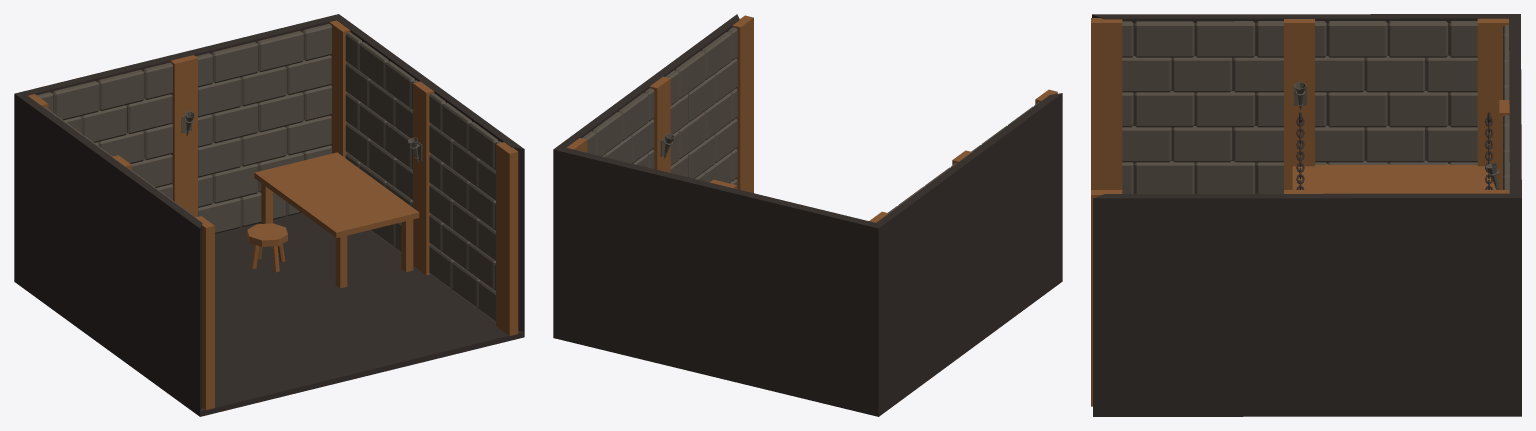
File: dilao.fbx
The picture shows the model from 3 angles, left to right: view 1: azimuth 30°, elevation 25°; view 2: azimuth 150°, elevation 25°; view 3: azimuth 270°, elevation 25°; orthographic projection. The views are drawn at different scales.
Visible parts, largest first — view 1: ban, qiang1, zhuzi1, pCube32, pCylinder2, pCube34, pCube33; view 2: ban, qiang1, zhuzi1; view 3: ban, qiang1, zhuzi1, pCube30.
Part boxes in pixels (<box>): ban: <box>14,14,524,416</box>; qiang1: <box>37,24,501,321</box>; zhuzi1: <box>28,20,518,409</box>; pCube32: <box>254,152,419,237</box>; pCylinder2: <box>247,223,287,246</box>; pCube34: <box>401,219,413,272</box>; pCube33: <box>335,235,347,288</box>; ban: <box>553,14,1062,416</box>; qiang1: <box>580,27,1039,213</box>; zhuzi1: <box>566,15,1057,222</box>; ban: <box>1092,14,1521,416</box>; qiang1: <box>1122,21,1509,193</box>; zhuzi1: <box>1091,18,1509,406</box>; pCube30: <box>1292,164,1496,193</box>.
Bounding box in the file's own units: 57.93 × 32.01 × 57.19.
